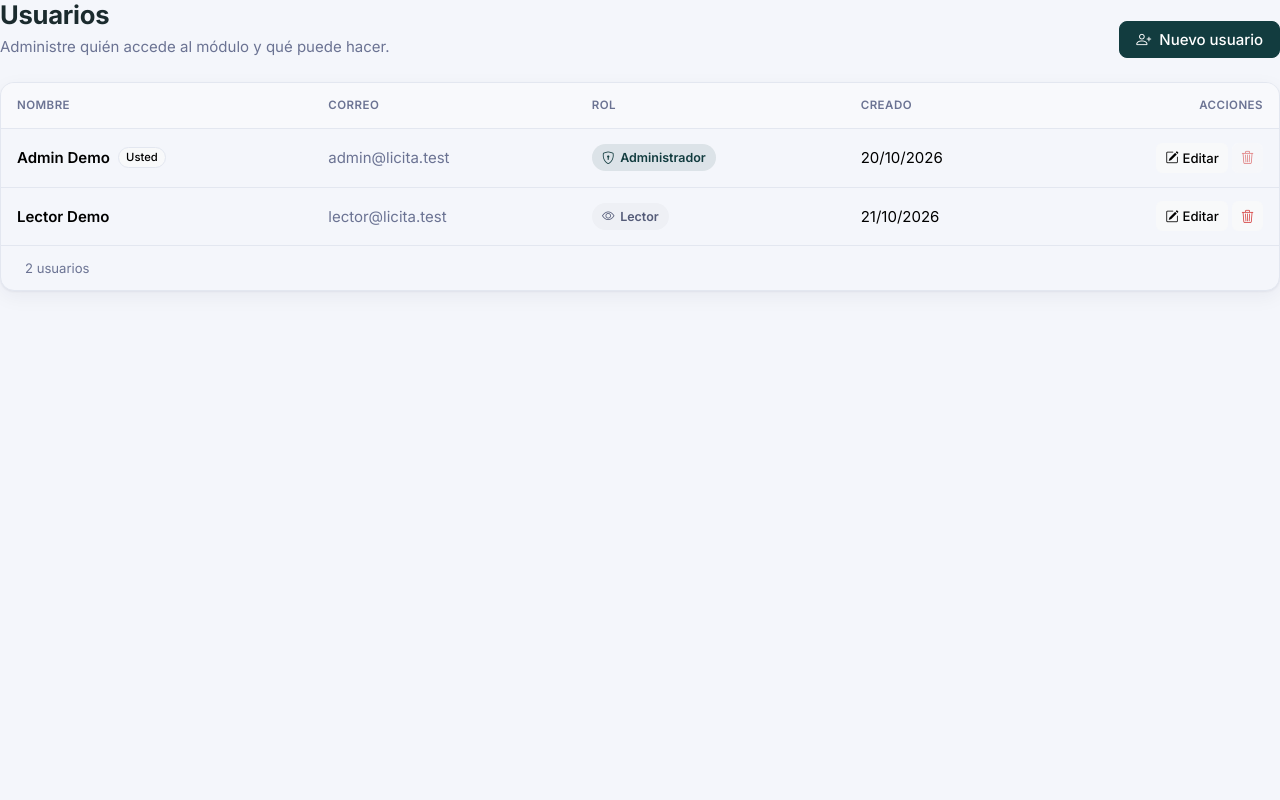
UsersView › creates a user after validating the form
The width and height of the screenshot is (1280, 800).
Click the button "Nuevo usuario" at (1200, 39), box x1=1119 y1=21 x2=1279 y2=58
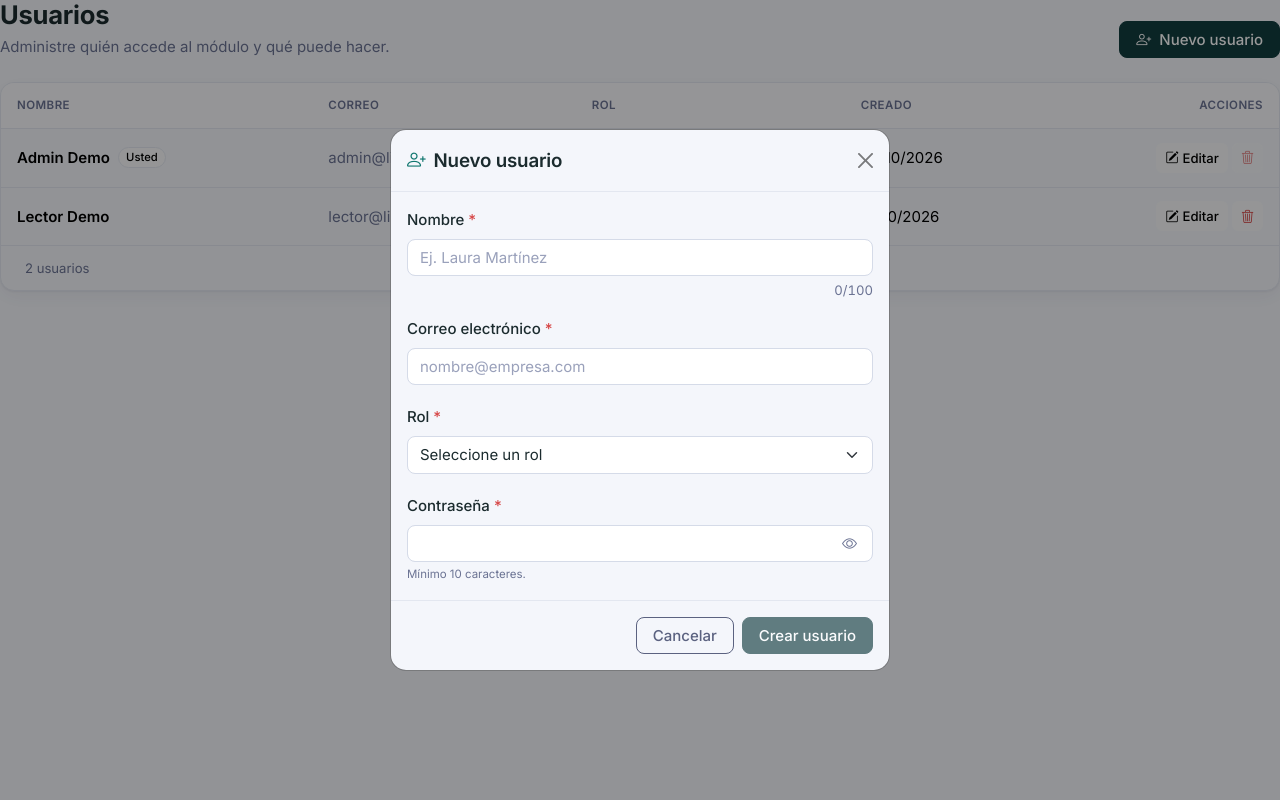
Check: the button "Crear usuario" is disabled, box x1=742 y1=617 x2=873 y2=654
Type "Nuevo Editor" into the field with id "user-name" at (640, 258), box x1=407 y1=239 x2=873 y2=276
Type "nuevo@licita.test" into the field with id "user-email" at (640, 367), box x1=407 y1=348 x2=873 y2=385
Select "Editor" in the dropdown with id "user-role" at (640, 455), box x1=407 y1=436 x2=873 y2=474
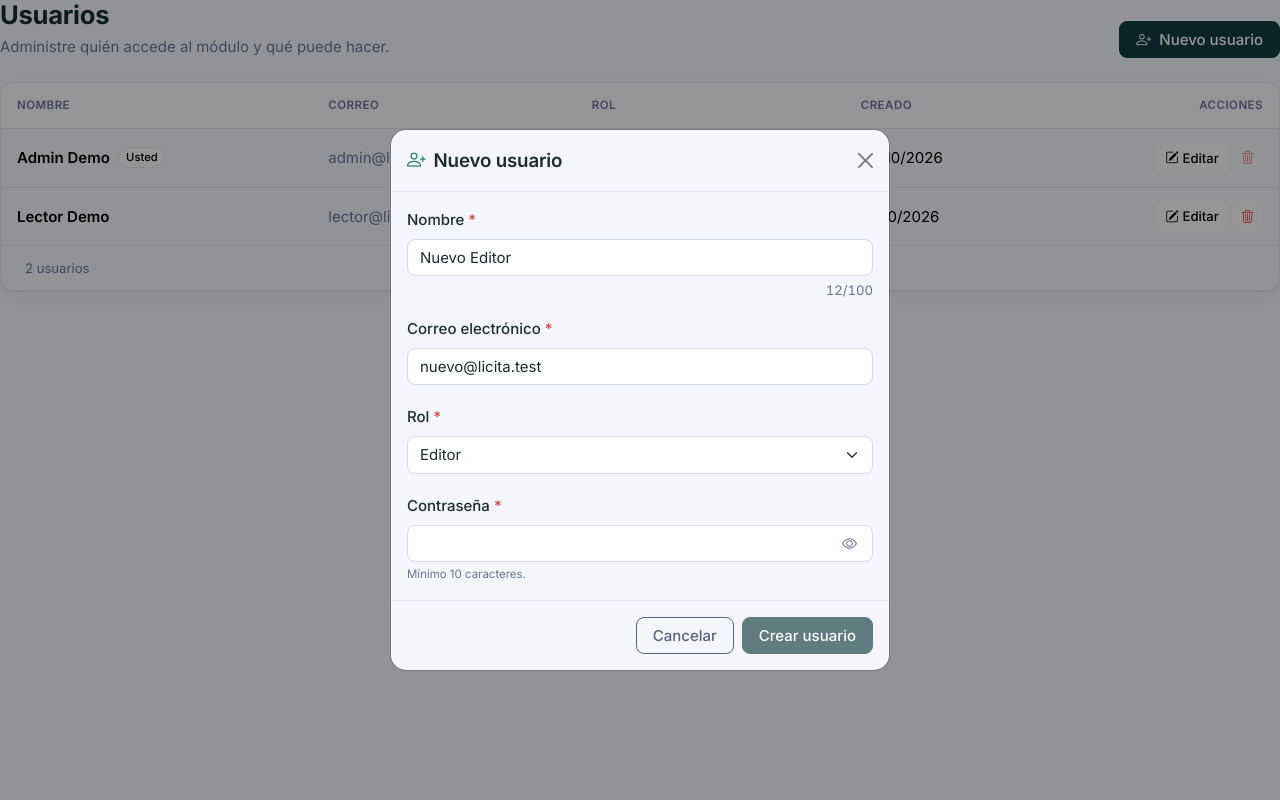
Type "corta" into the password field with id "user-password" at (640, 544), box x1=407 y1=525 x2=873 y2=562
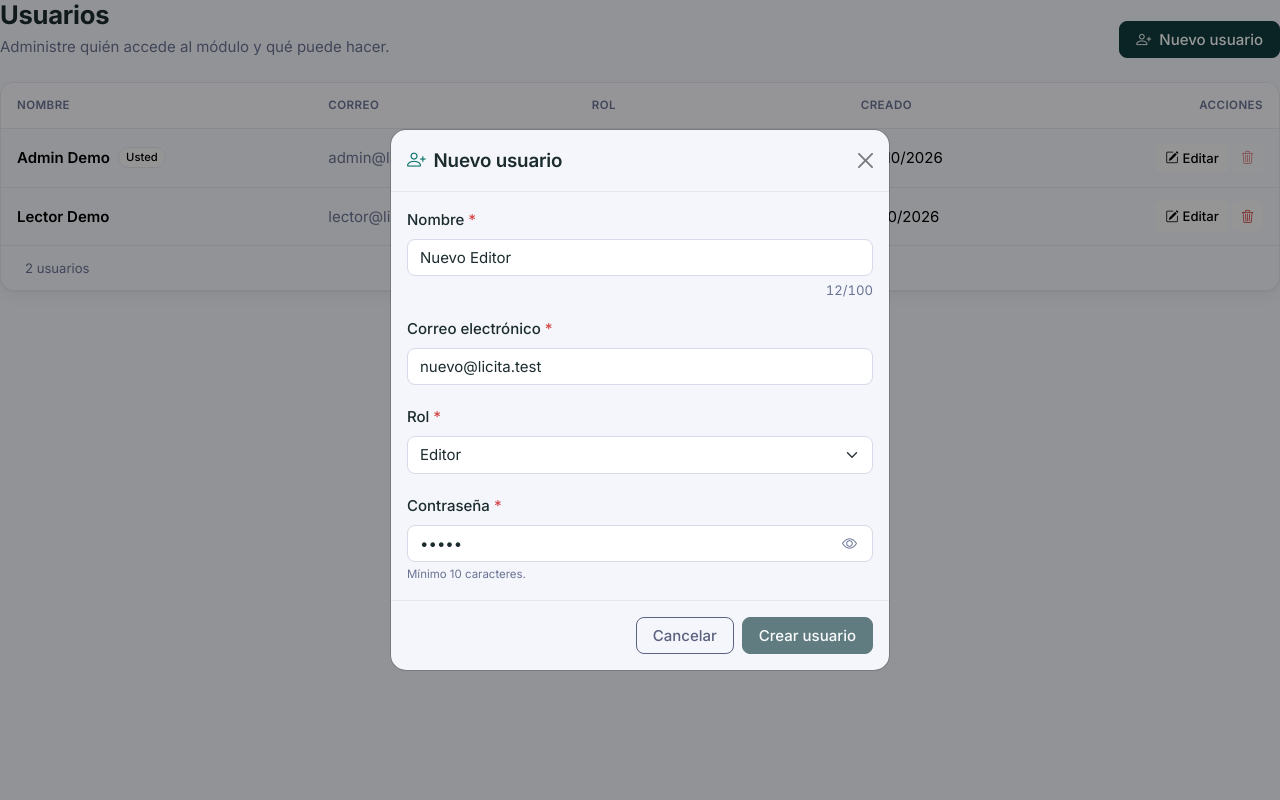
Leave the password field with id "user-password", box x1=407 y1=525 x2=873 y2=562
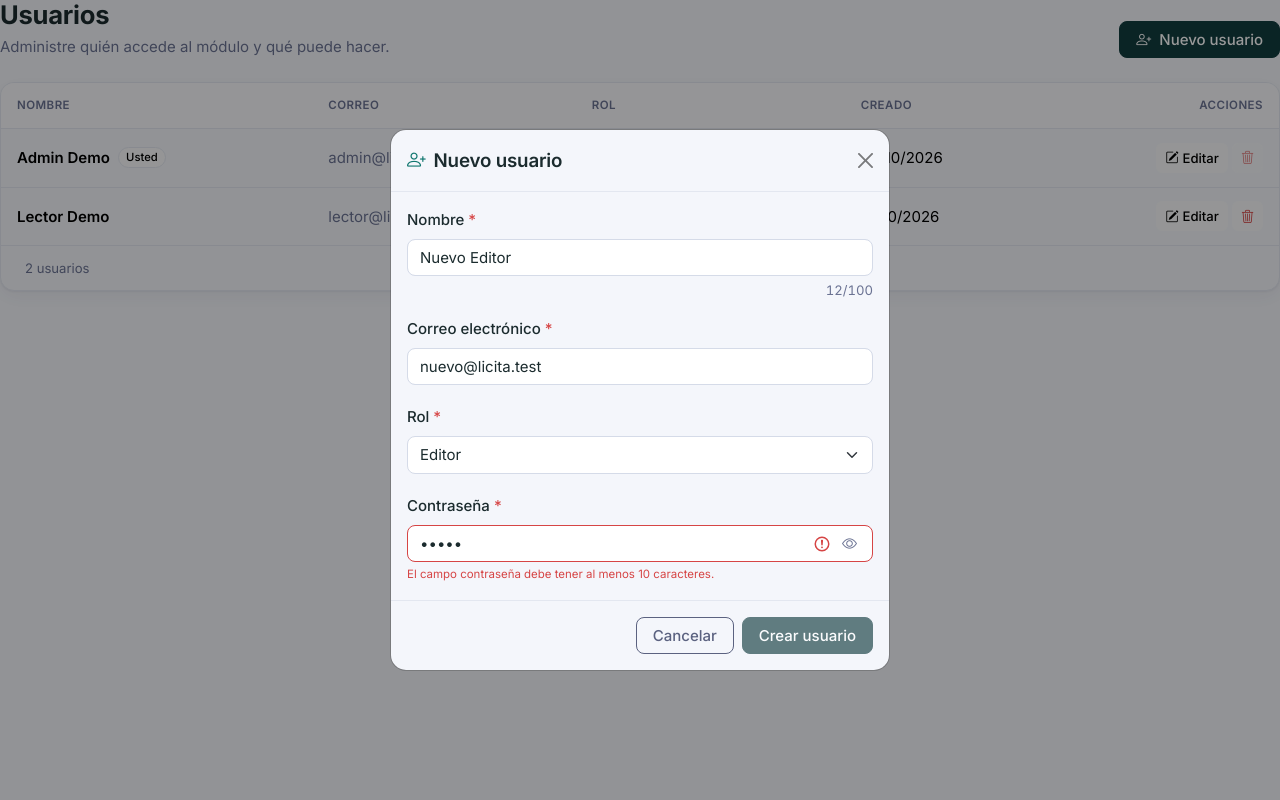
Check: the text "El campo contraseña debe tener al menos 10 caracteres." is shown, box x1=407 y1=566 x2=714 y2=584
Type "Clave-Segura-2026" into the password field with id "user-password" at (640, 544), box x1=407 y1=525 x2=873 y2=562
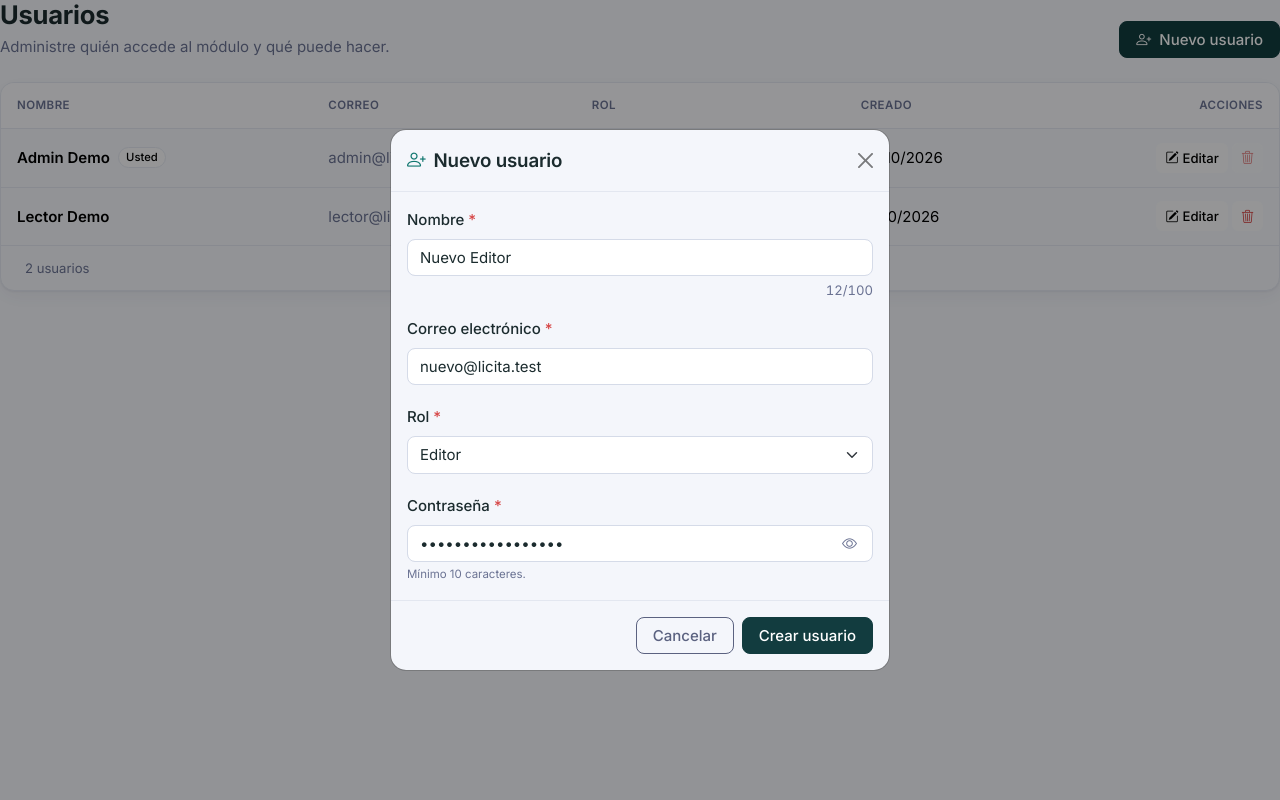
Submit the form with id "user-form", box x1=407 y1=208 x2=873 y2=584
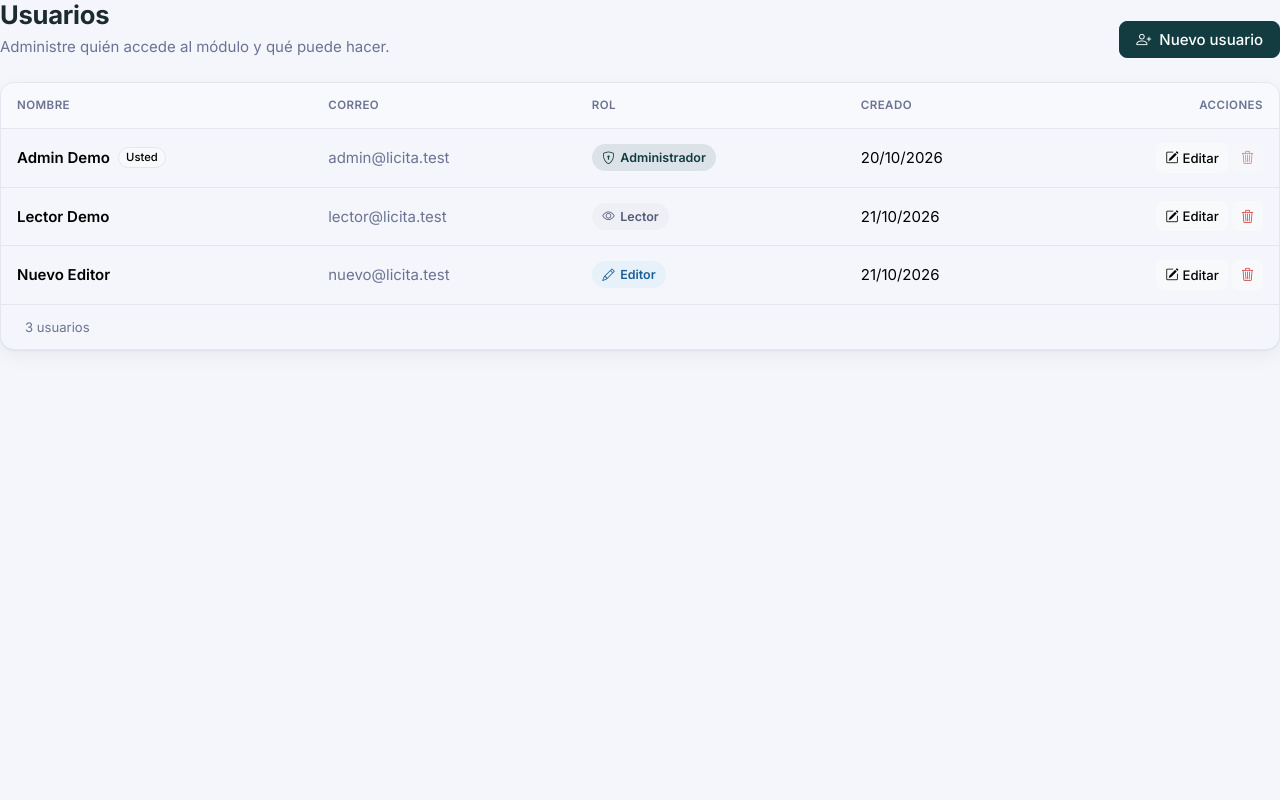
Check: the text "nuevo@licita.test" is shown, box x1=328 y1=265 x2=450 y2=284
